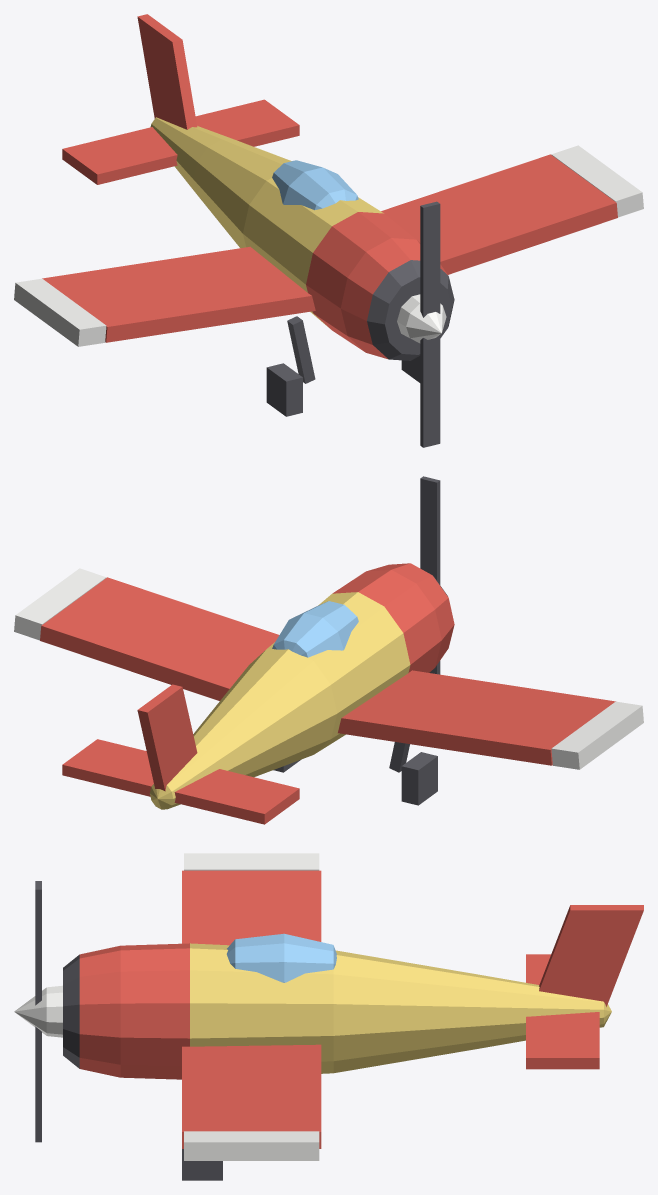
File: airplane.glb
3 renders of one model, top to bottom at view 1: azimuth 30°, elevation 25°; view 2: azimuth 150°, elevation 25°; view 3: azimuth 270°, elevation 25°, orthographic. The views are drawn at different scales.
Parts seen in each view (by area): view 1: airplane, propeller; view 2: airplane, propeller; view 3: airplane, propeller.
Boxes of the visible parts, bbox=[...] form: airplane: bbox=[14, 14, 643, 416]; propeller: bbox=[420, 201, 440, 447]; airplane: bbox=[14, 563, 643, 824]; propeller: bbox=[420, 476, 440, 674]; airplane: bbox=[14, 853, 643, 1180]; propeller: bbox=[35, 881, 41, 1142].
Bounding box in the file's own units: 1.68 × 0.69 × 1.54.
